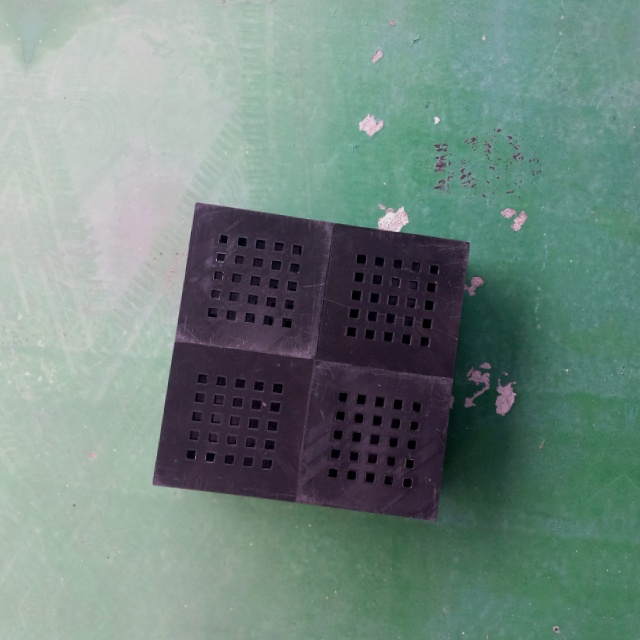pallet: (142, 194, 478, 530)
